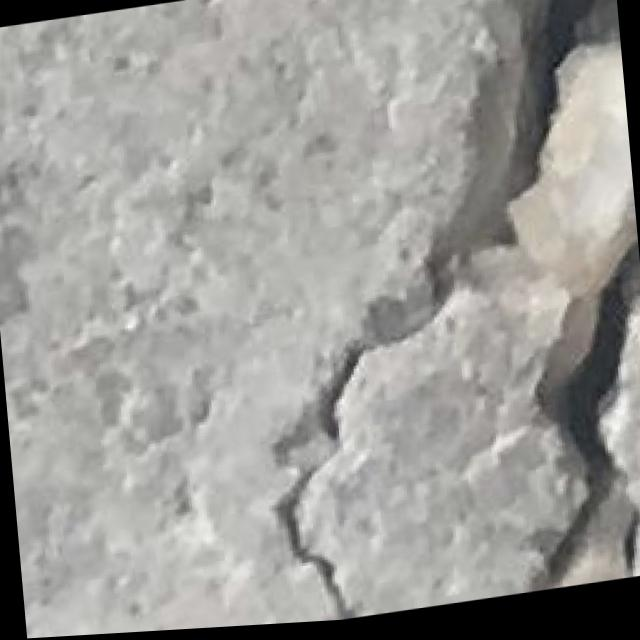Crack: (220, 0, 640, 630)
